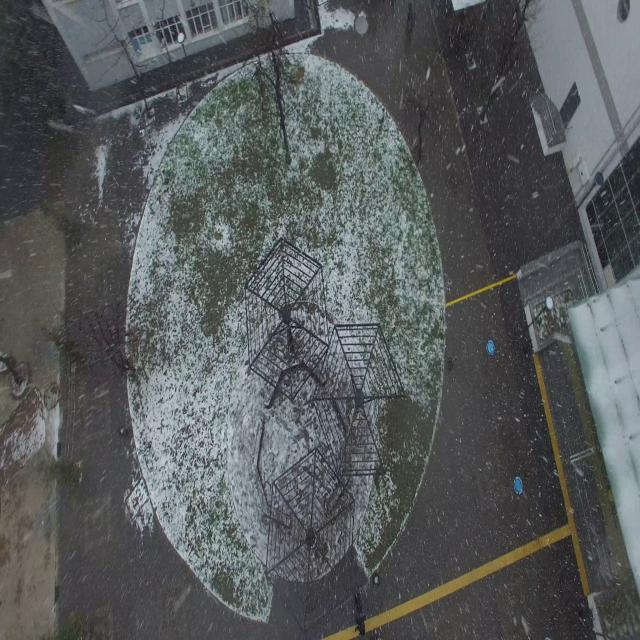p3rson: (406, 2, 416, 30), (355, 614, 367, 636), (353, 592, 363, 614)
